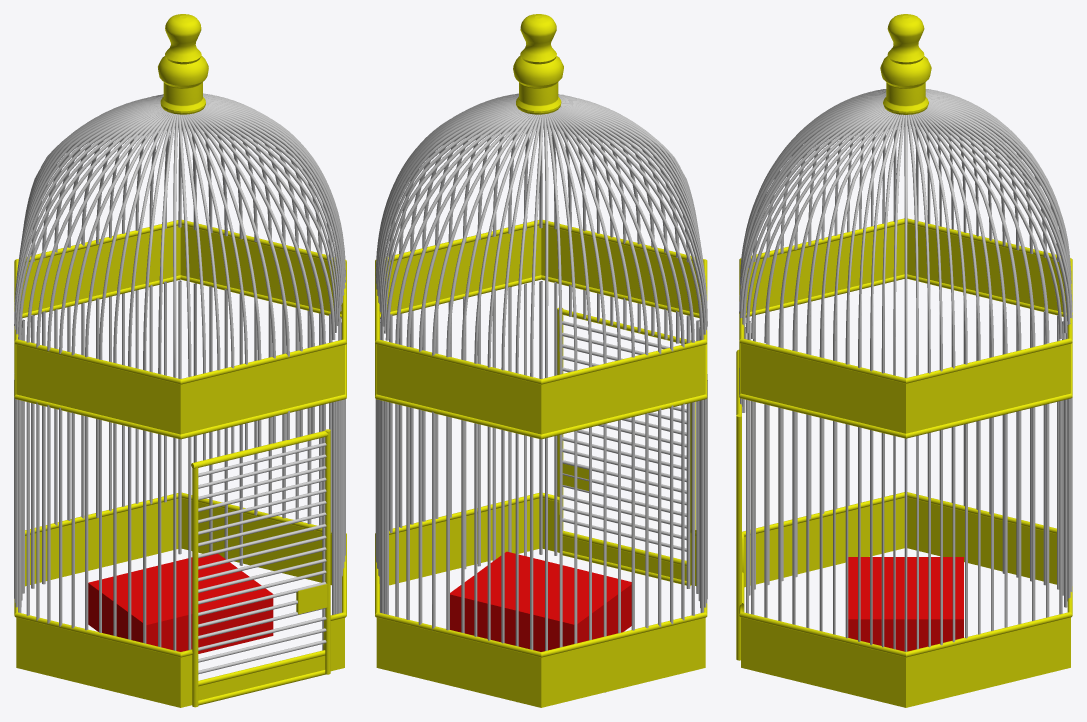
Rendered from bird cage.fbx.
3 renders of one model, left to right at view 1: azimuth 30°, elevation 25°; view 2: azimuth 150°, elevation 25°; view 3: azimuth 270°, elevation 25°, orthographic.
Parts seen in each view (by area): view 1: polySurface32, bird_cage2_pCylinder14, pCube90, polySurface38, polySurface40, polySurface41, pCylinder19, pCylinder27, pCylinder26, pCylinder23, pCylinder22, pCylinder18 (+9 smaller); view 2: polySurface32, bird_cage2_pCylinder14, pCube90, polySurface38, polySurface40; view 3: bird_cage2_pCylinder14, polySurface32, pCube90.
Boxes of the visible parts, bbox=[...] form: polySurface32: bbox=[14, 93, 345, 650]; bird_cage2_pCylinder14: bbox=[14, 14, 346, 707]; pCube90: bbox=[88, 553, 273, 653]; polySurface38: bbox=[198, 655, 325, 700]; polySurface40: bbox=[198, 650, 325, 686]; polySurface41: bbox=[198, 670, 325, 705]; pCylinder19: bbox=[198, 477, 326, 511]; pCylinder27: bbox=[198, 570, 326, 604]; pCylinder26: bbox=[198, 558, 326, 592]; pCylinder23: bbox=[198, 524, 326, 558]; pCylinder22: bbox=[198, 512, 326, 546]; pCylinder18: bbox=[198, 466, 326, 500]; polySurface32: bbox=[375, 93, 707, 692]; bird_cage2_pCylinder14: bbox=[375, 14, 707, 707]; pCube90: bbox=[450, 551, 631, 651]; polySurface38: bbox=[562, 536, 686, 580]; polySurface40: bbox=[562, 530, 686, 566]; bird_cage2_pCylinder14: bbox=[736, 14, 1072, 707]; polySurface32: bbox=[739, 89, 1072, 651]; pCube90: bbox=[848, 557, 963, 651].
Size of the model in its own units: 9.52 by 16.76 by 8.32.
